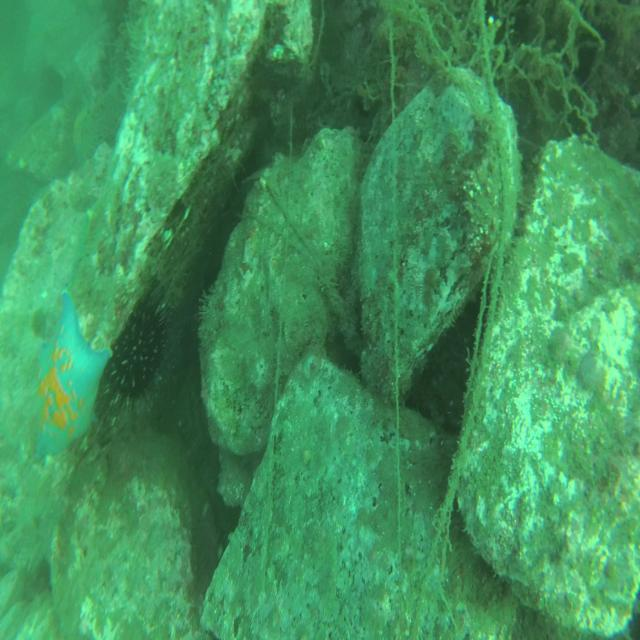echinus: (100, 296, 168, 427)
starfish: (34, 288, 116, 470)
